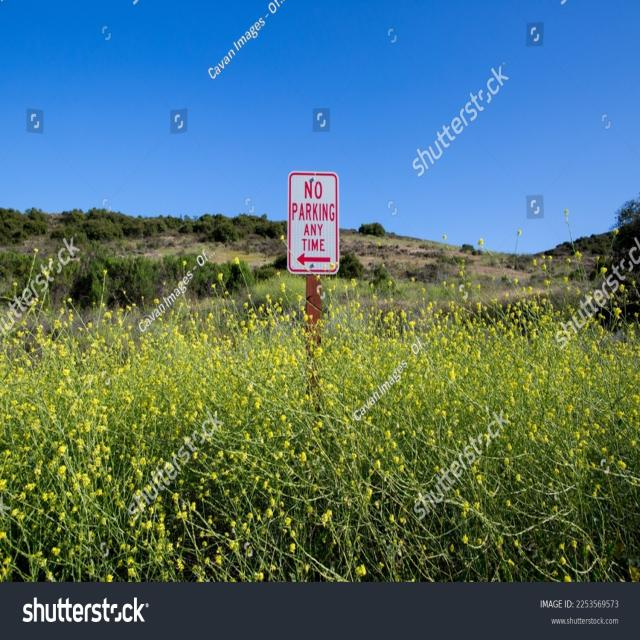Traffic sign: (289, 163, 341, 285)
